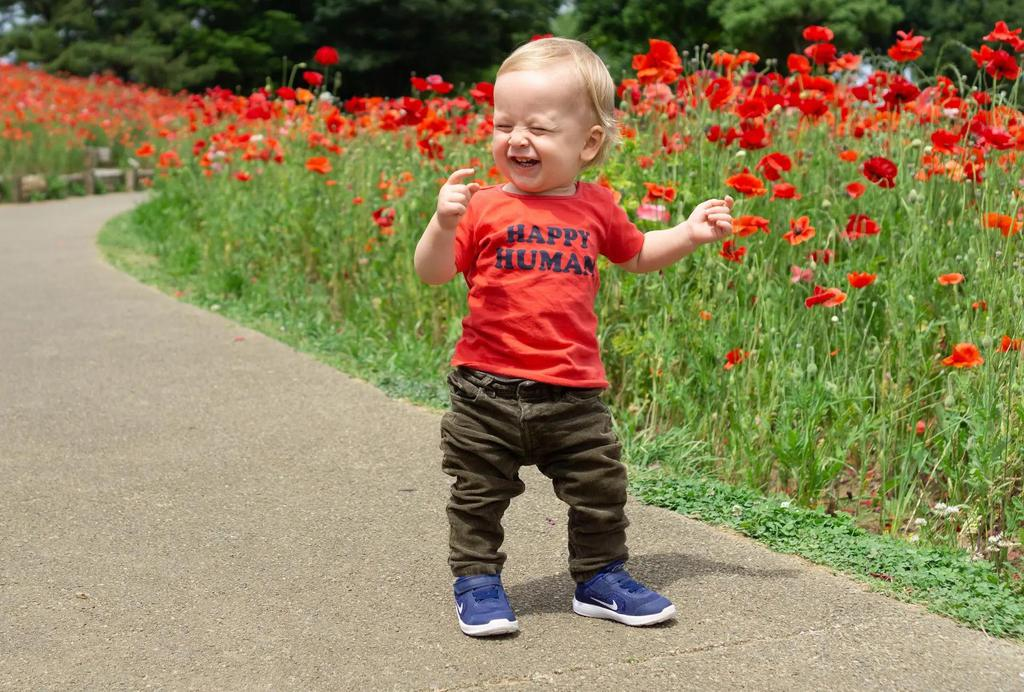child: (398, 30, 736, 640)
